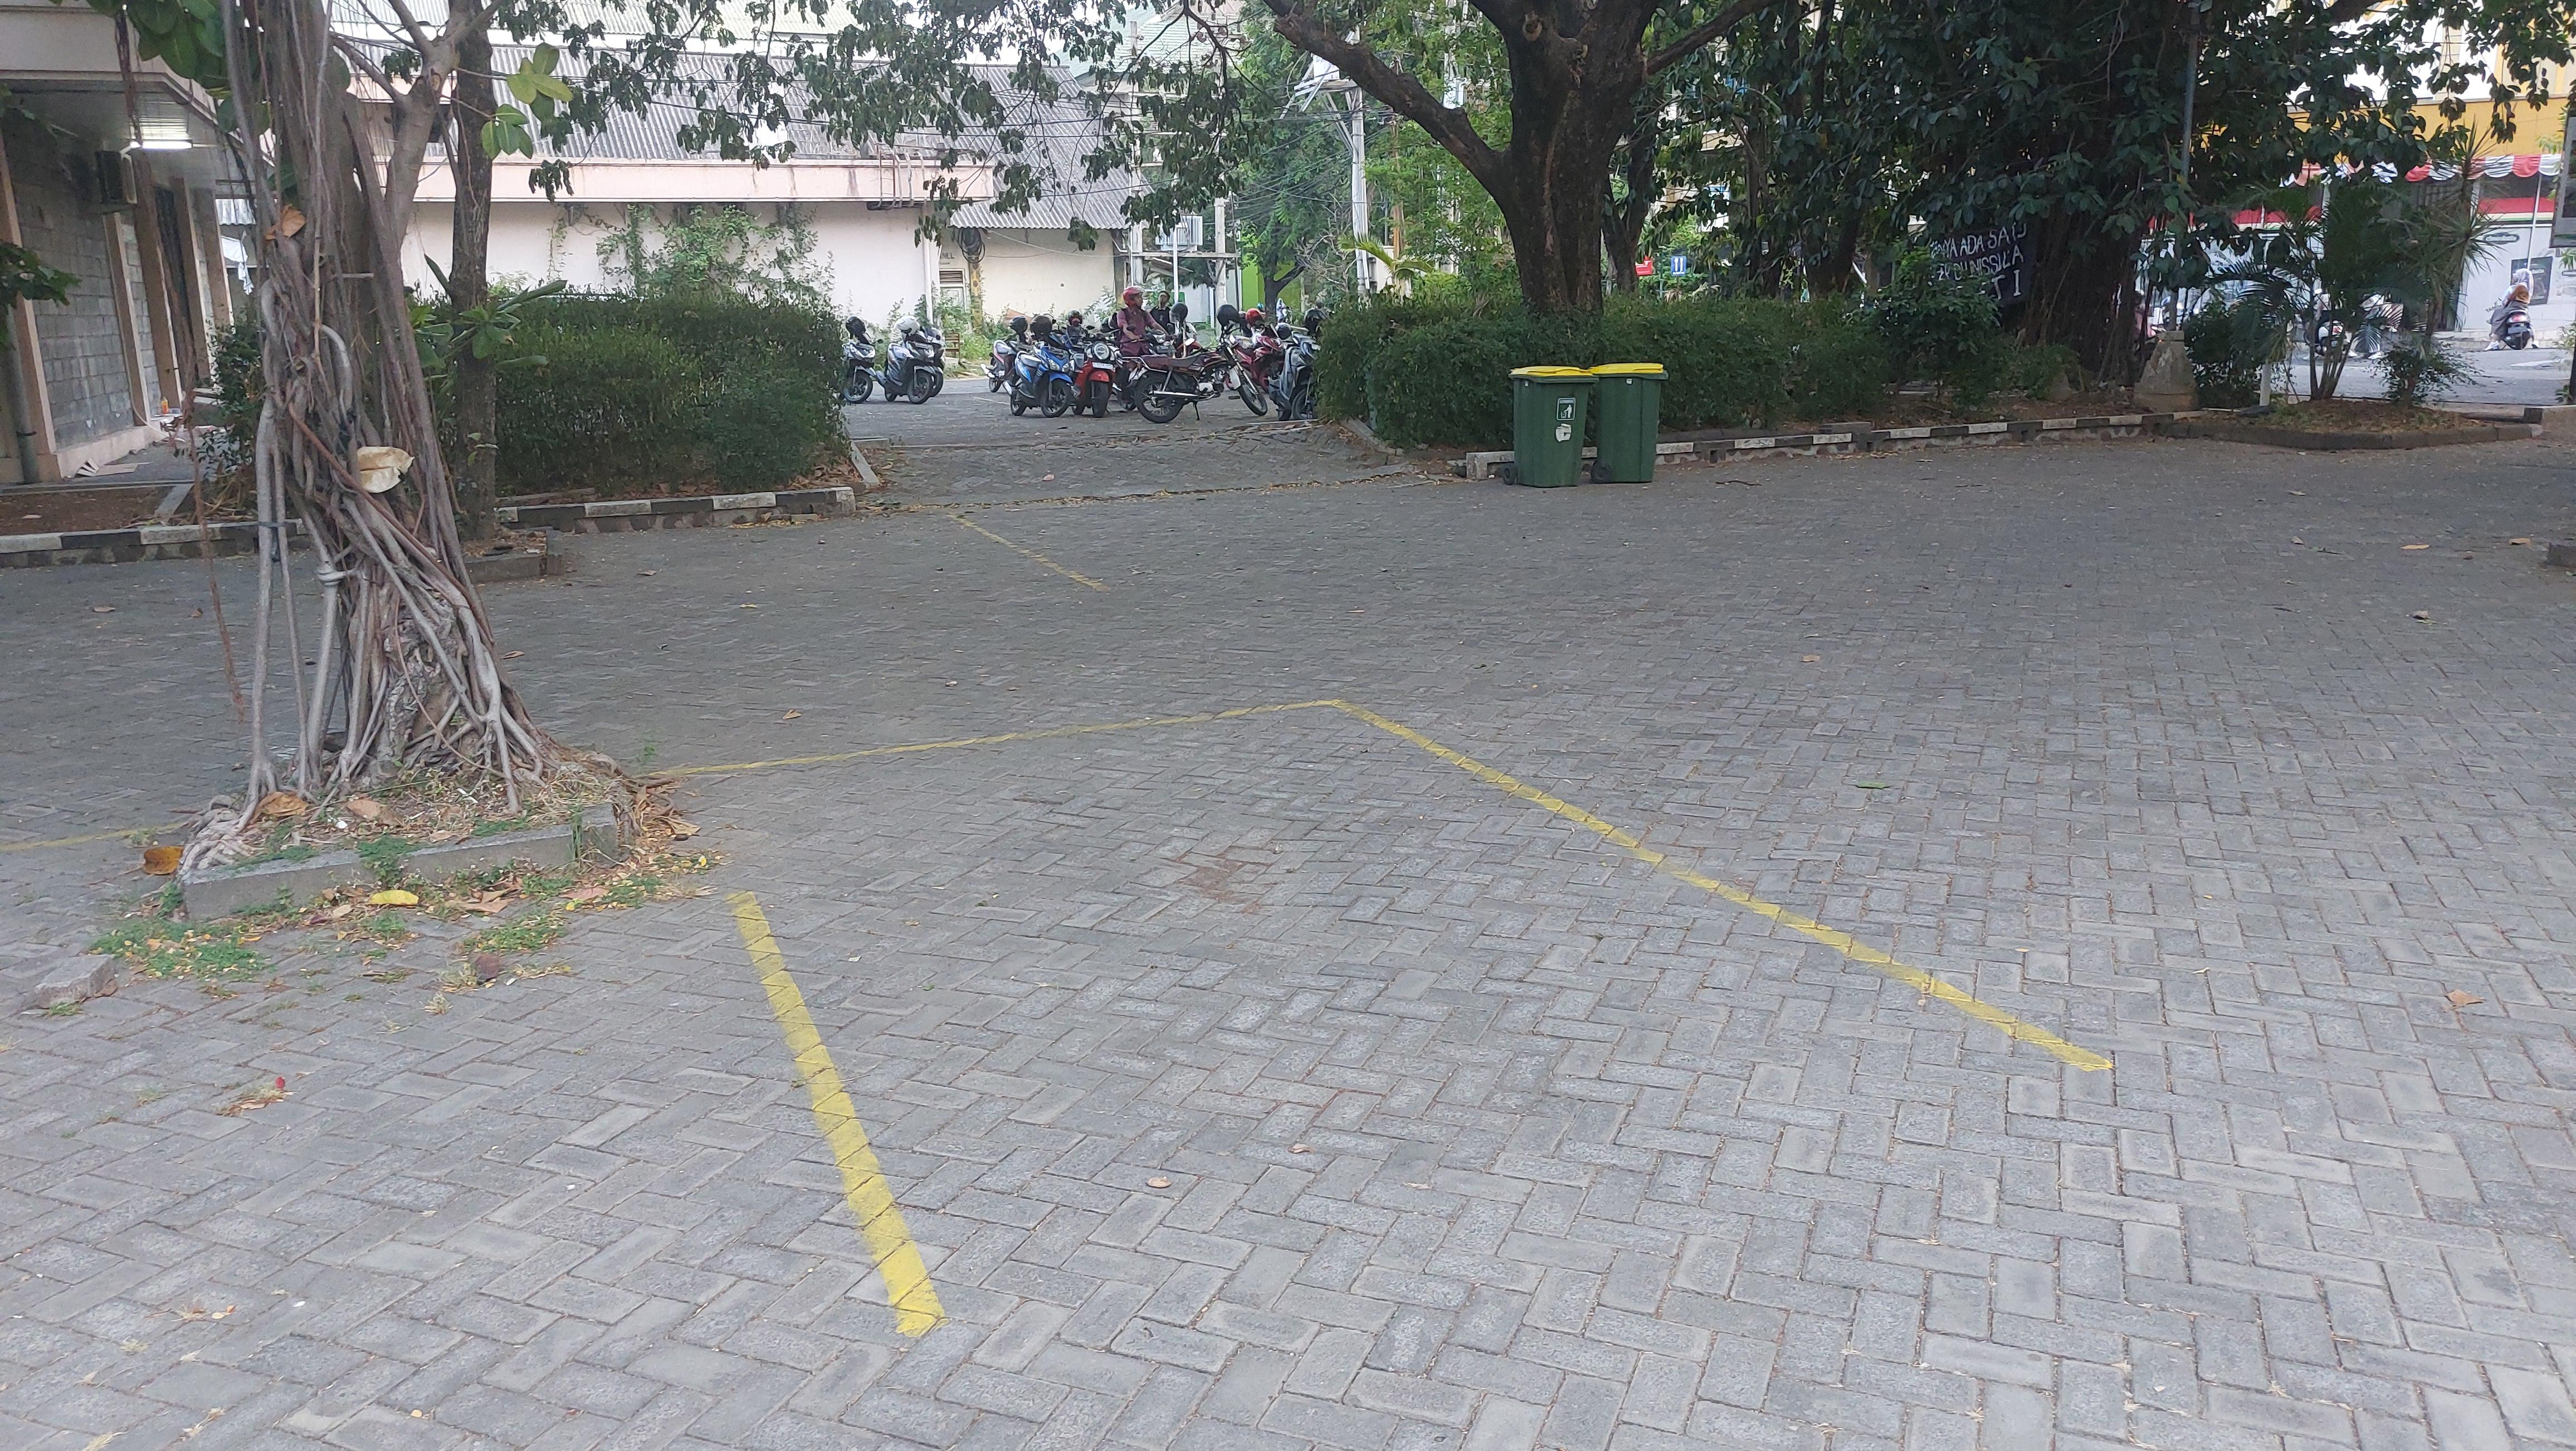empty: (675, 700, 2116, 1327), (559, 510, 1100, 649)
